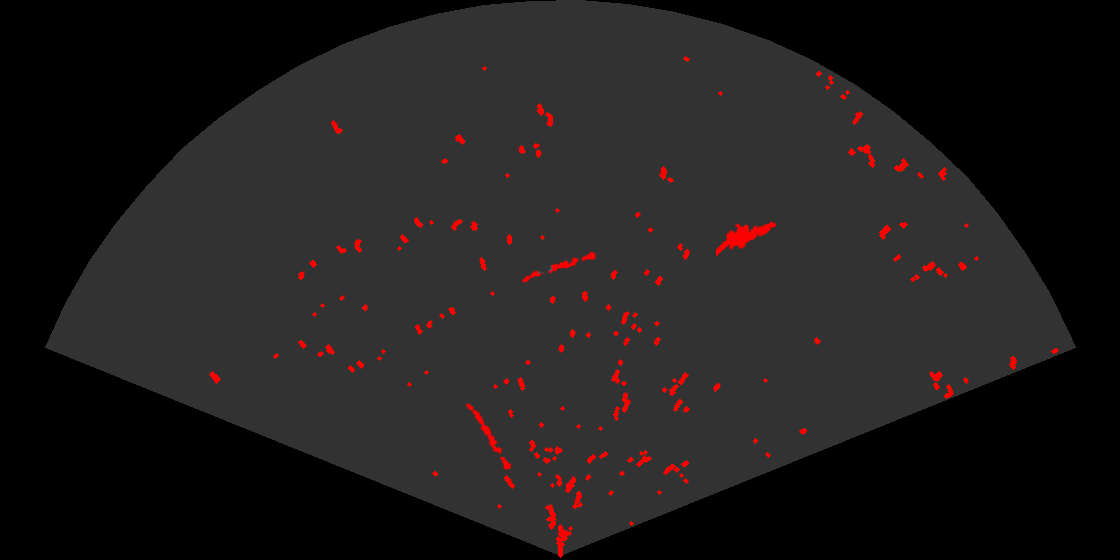chain: (464, 402, 515, 475), (520, 250, 598, 284)
frogman: (716, 220, 778, 258)
